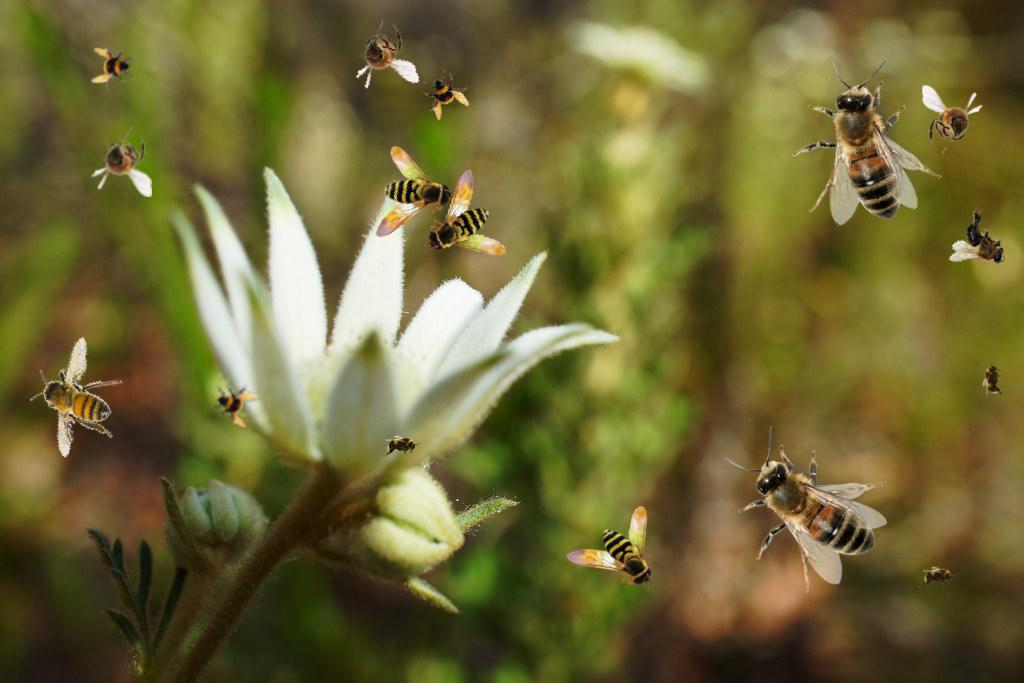Bee: (746, 31, 977, 263), (725, 426, 887, 593), (16, 329, 139, 463), (339, 137, 461, 259), (422, 163, 520, 265), (566, 506, 654, 588), (342, 14, 421, 98), (945, 203, 1022, 283), (91, 127, 152, 197), (922, 85, 983, 155), (415, 63, 477, 125), (206, 375, 262, 431), (91, 46, 135, 90), (982, 359, 1004, 399), (919, 566, 959, 588), (382, 435, 422, 457)
